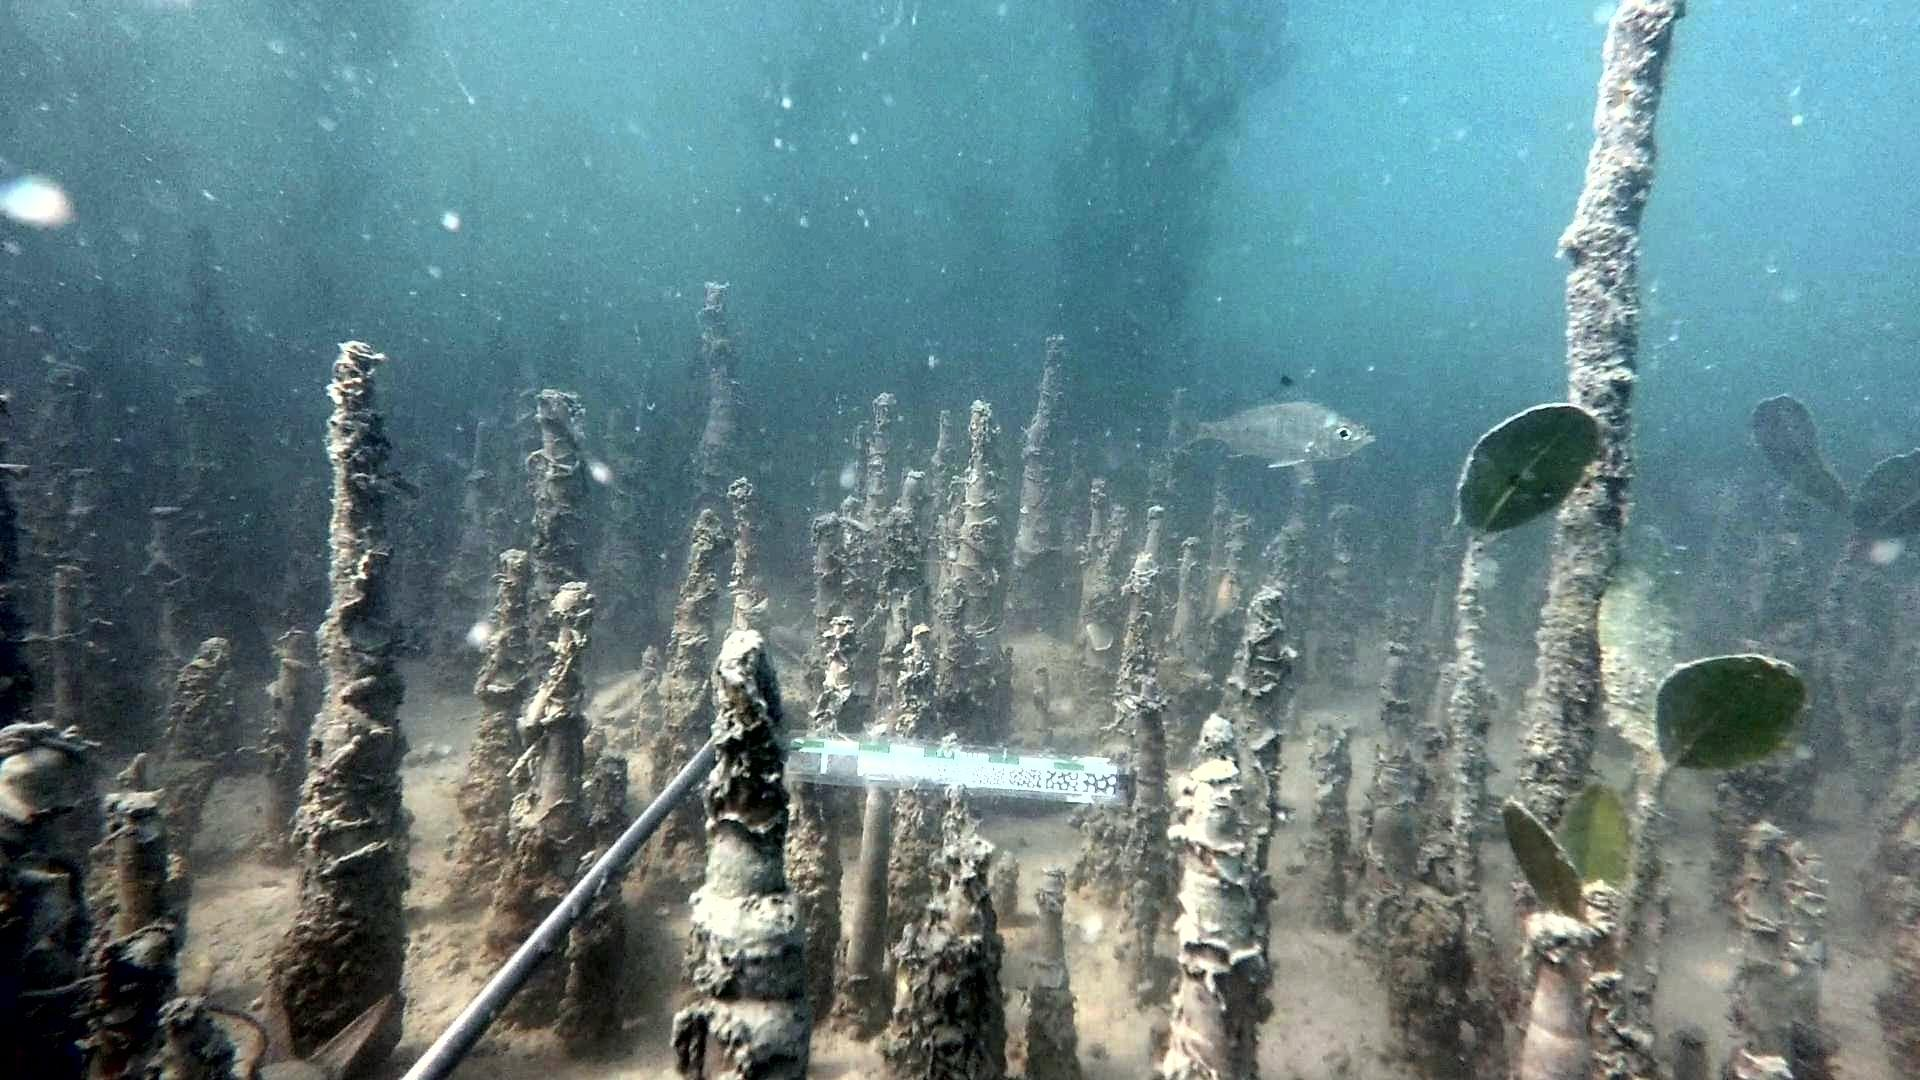gerres: (1169, 374, 1378, 470)
